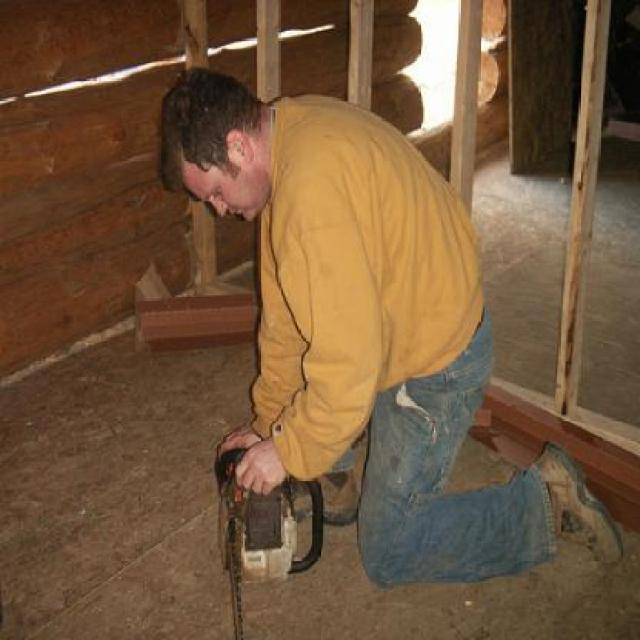Chainsaw: (212, 450, 325, 638)
